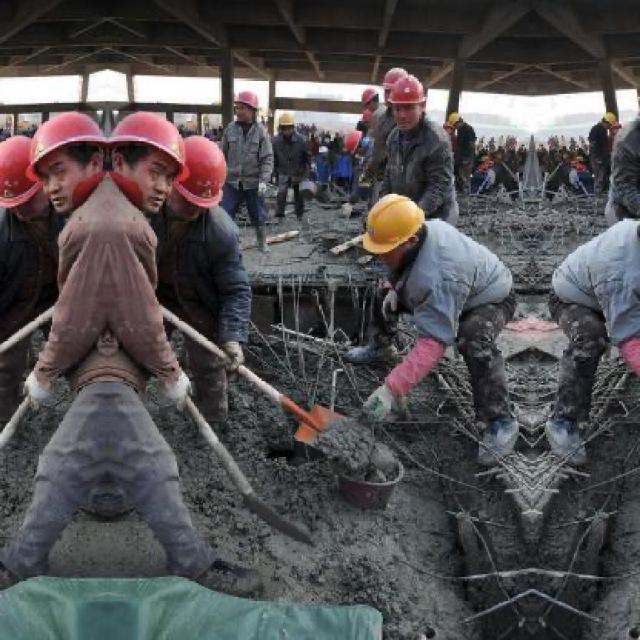helmet: (111, 105, 195, 220), (22, 105, 106, 220), (358, 186, 434, 268), (175, 135, 231, 217), (2, 134, 43, 217), (383, 69, 428, 126), (229, 86, 266, 128), (340, 128, 371, 160), (354, 85, 386, 114), (276, 110, 298, 138), (595, 110, 617, 132), (451, 110, 472, 132)
